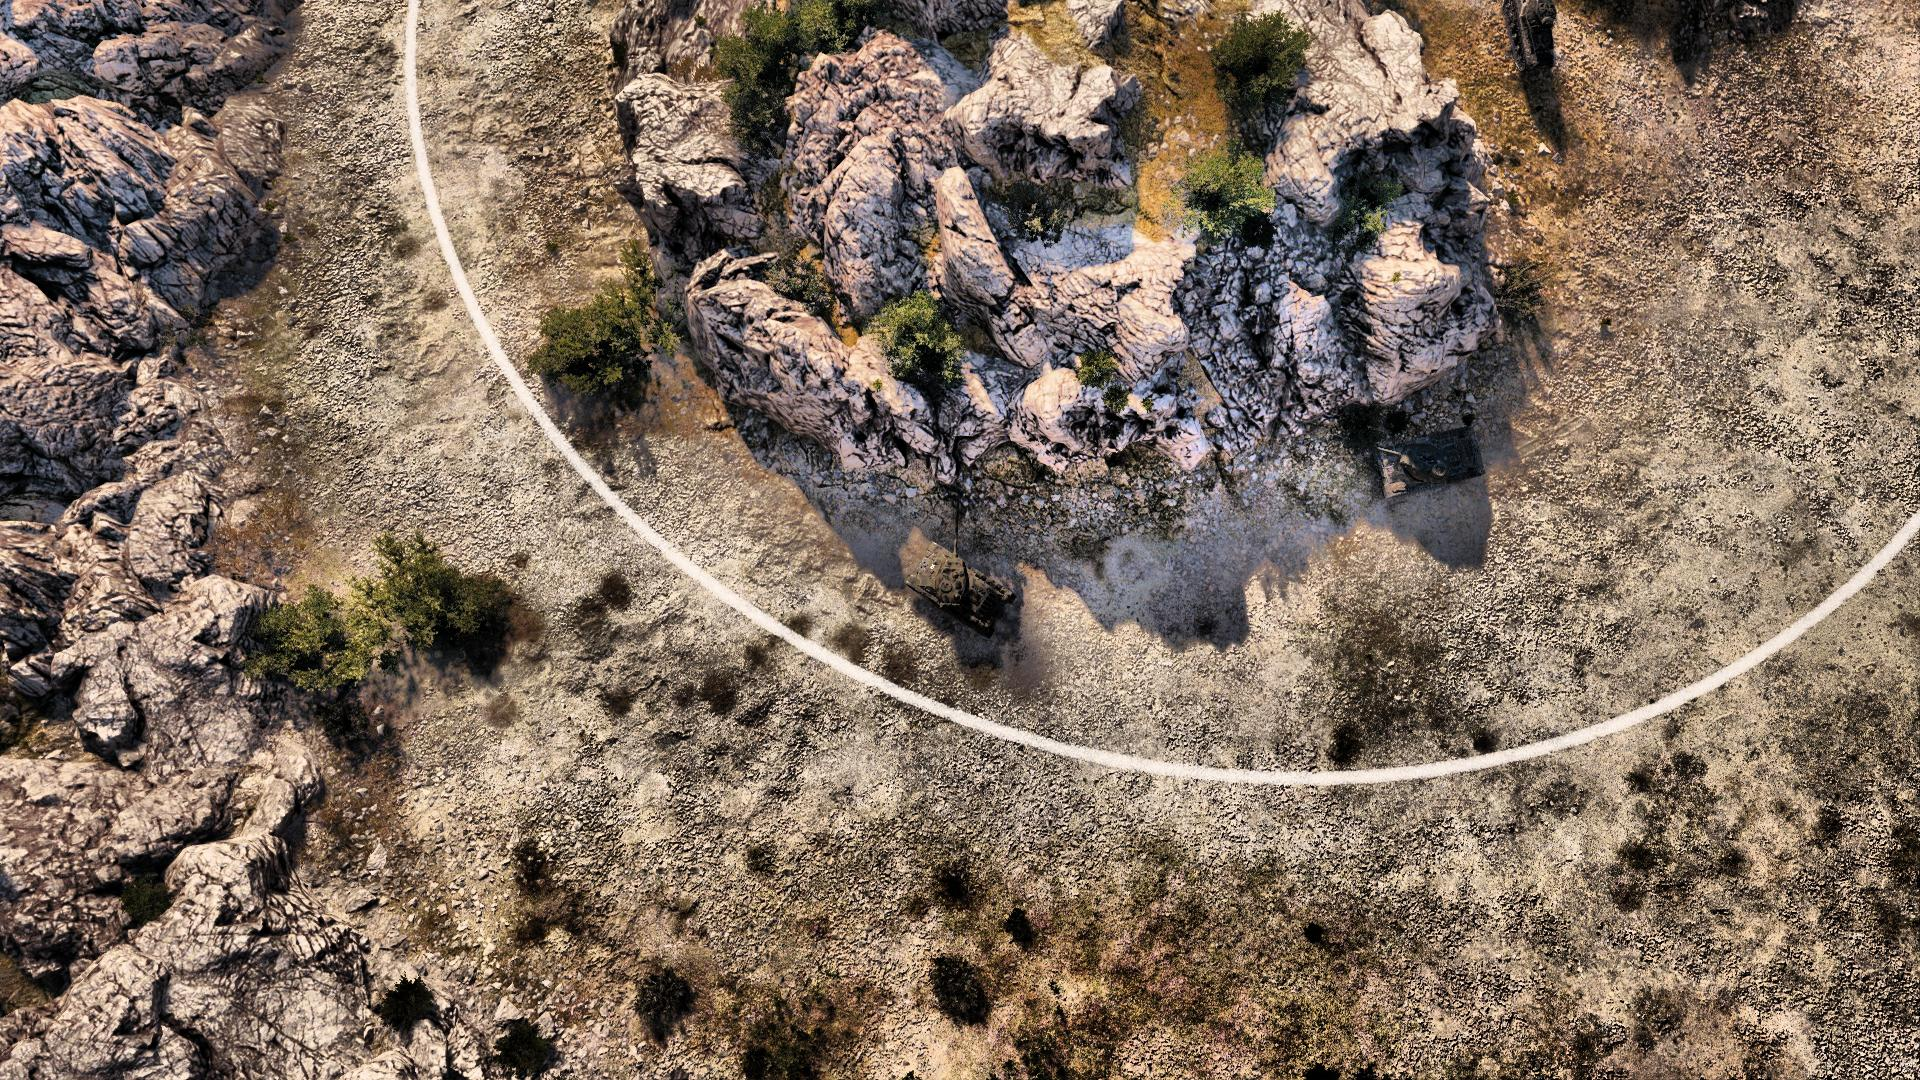military-vehicle: (910, 504, 1013, 638), (1371, 423, 1490, 498)
